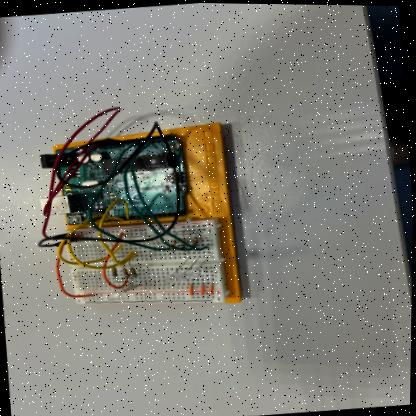5V: (37, 103, 128, 237)
ARDUINO: (55, 132, 191, 225)
Breadboard: (66, 219, 226, 305)
GND: (34, 116, 189, 250)
LED: (108, 284, 140, 301)
Long wire: (82, 138, 174, 251), (127, 140, 210, 250), (120, 139, 194, 253), (55, 209, 129, 266), (65, 216, 136, 274), (97, 195, 144, 269), (52, 232, 101, 300), (99, 230, 133, 290)
Phototransistor: (176, 269, 191, 283), (190, 267, 206, 279), (165, 272, 179, 284)
Resistor: (169, 238, 178, 252), (181, 236, 187, 251), (193, 236, 200, 246), (131, 267, 138, 276), (123, 268, 130, 277), (112, 267, 118, 277)
Short wire: (211, 285, 215, 295), (202, 285, 206, 295), (191, 285, 194, 295)
